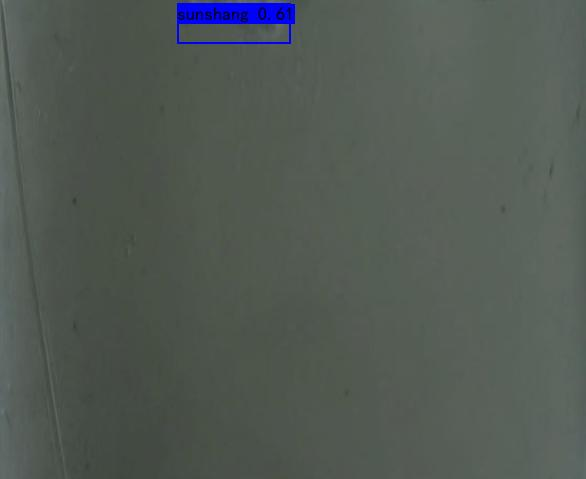sunshang: (4, 1, 82, 479), (173, 1, 305, 44)
